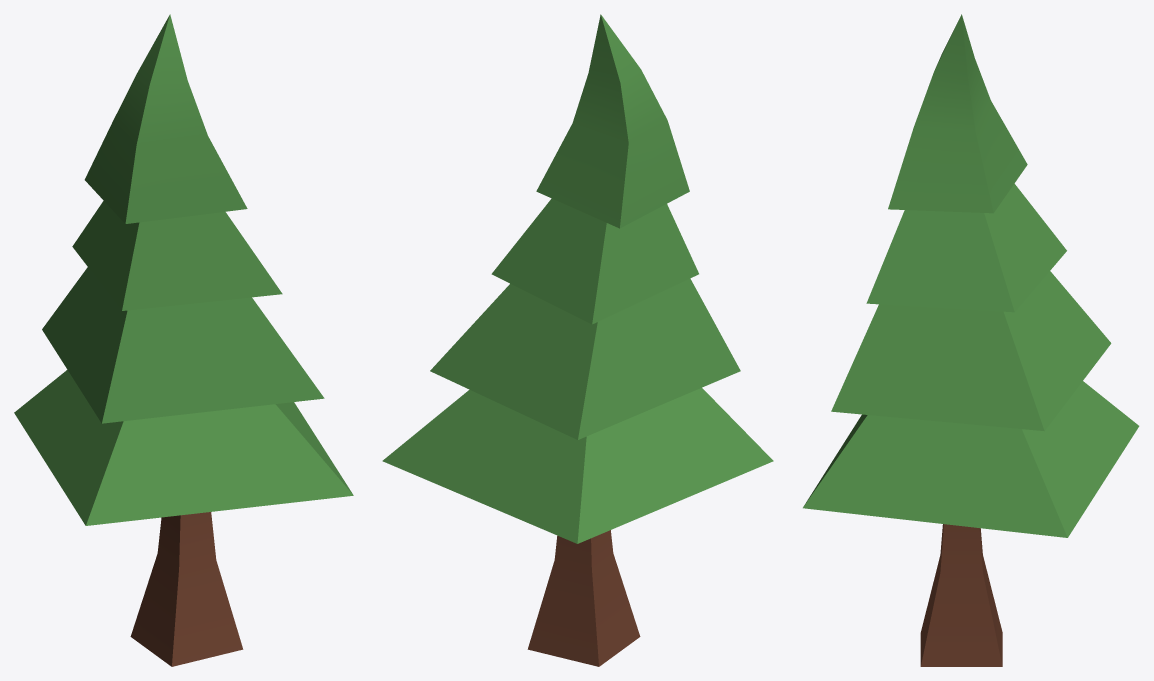
The model's file is test tree 2.fbx.
3 views of the same model, side by side, from view 1: azimuth 30°, elevation 25°; view 2: azimuth 150°, elevation 25°; view 3: azimuth 270°, elevation 25° (orthographic).
Visible parts, largest first — view 1: pCube7; view 2: pCube7; view 3: pCube7.
Boxes of the visible parts, x1,y1,x2,y2 form: pCube7: (14,14,353,666); pCube7: (382,14,773,666); pCube7: (803,14,1139,666).
Bounding box in the file's own units: 4.11 × 8.46 × 4.12.
